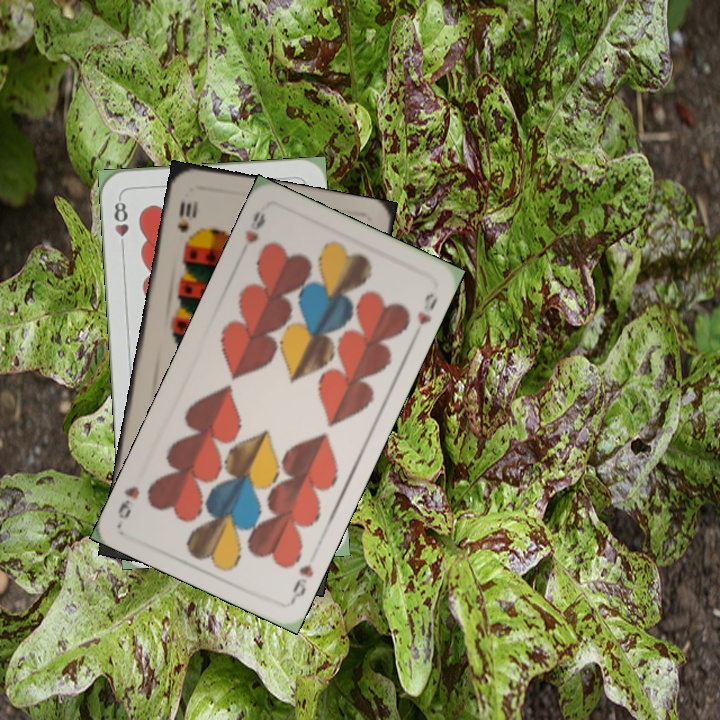H8: (110, 193, 131, 253)
H9: (288, 560, 316, 604), (240, 207, 268, 246)
S10: (173, 196, 199, 235)
